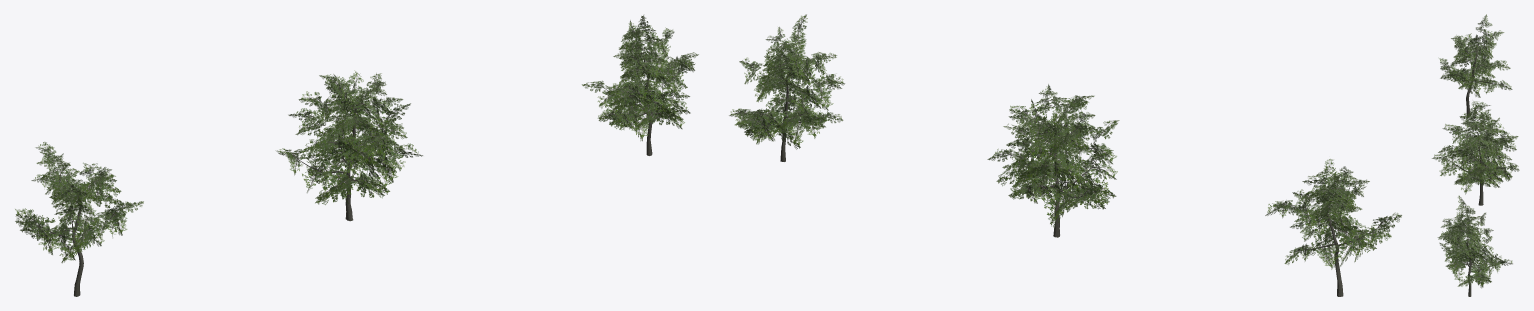
File: campus-trees.glb
3 views of the same model, side by side, from view 1: azimuth 30°, elevation 25°; view 2: azimuth 150°, elevation 25°; view 3: azimuth 270°, elevation 25° (orthographic). The views are drawn at different scales.
Parts seen in each view (by area): view 1: oak2, oak3, oak1; view 2: oak2, oak3, oak1; view 3: oak2, oak3, oak1.
Part boxes in pixels (x1,y1,x2,y2): oak2: (276, 70, 422, 221); oak3: (582, 15, 698, 155); oak1: (15, 142, 143, 296); oak2: (987, 84, 1119, 237); oak3: (729, 14, 844, 161); oak1: (1265, 159, 1401, 296); oak2: (1432, 101, 1519, 205); oak3: (1437, 195, 1512, 296); oak1: (1439, 14, 1512, 115).
Bounding box in the file's own units: 4.79 × 1 × 0.8367.
2 materials, 2 textured.
